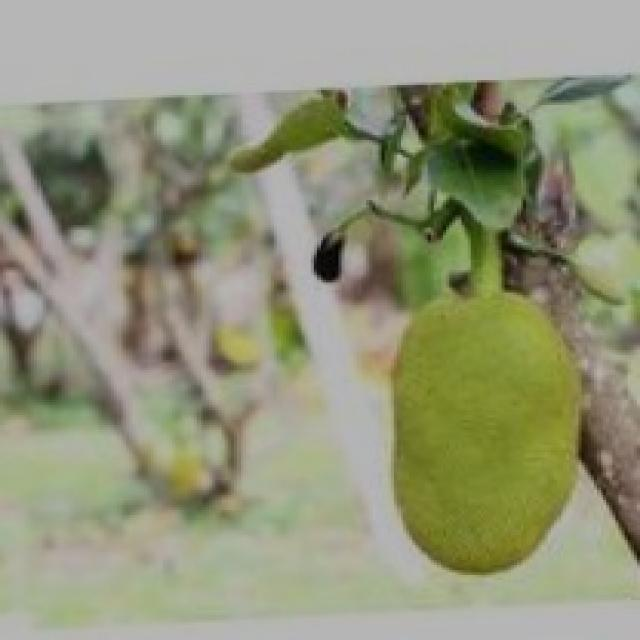Fruit: (342, 260, 628, 608)
